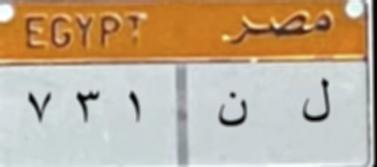1: (120, 82, 150, 126)
3: (68, 82, 107, 124)
7: (26, 84, 53, 130)
laam: (299, 65, 334, 131)
noon: (212, 88, 251, 129)
